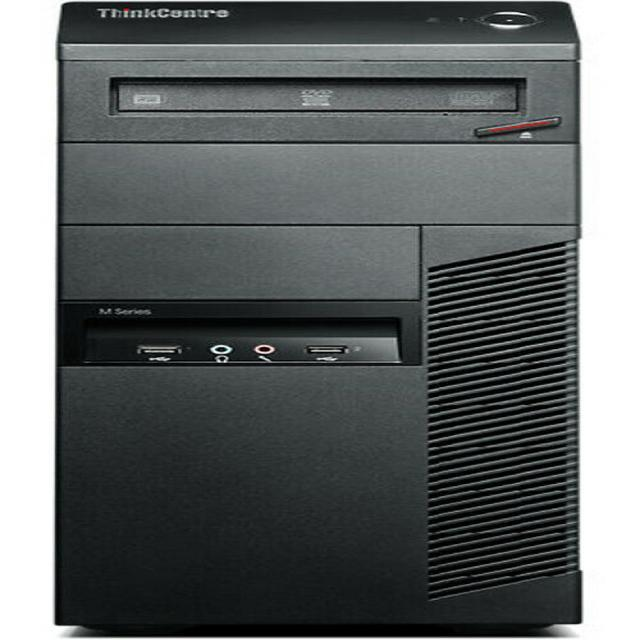Desktop-PC: (49, 1, 606, 635)
